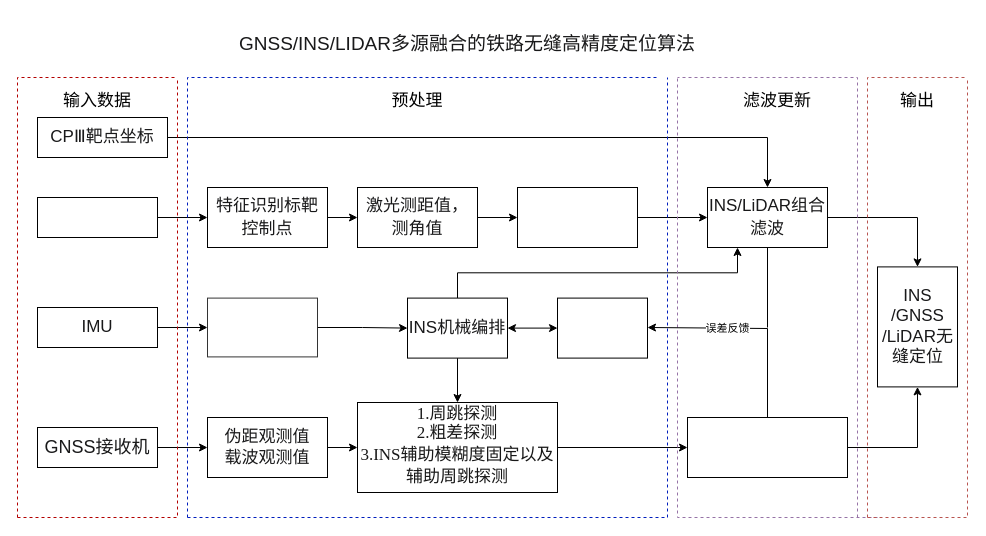
Some shapes in this 986 by 536 pixel diagram are drawn without their labels. Here are the shapes that lost their labels. From the top down, the centre of each, then its label:
At pixel 97 217: "激光扫描仪".
At pixel 577 217: "点云中靶点坐标".
At pixel 262 327: "加速度 角速度".
At pixel 602 327: "惯导误差".
At pixel 767 447: "INS/GNSS松组合 INS/GNSS紧组合".
